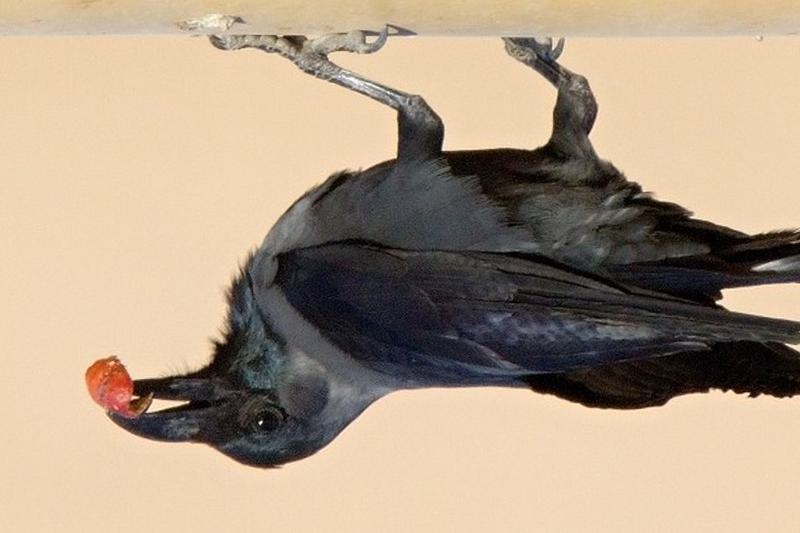crow: (79, 38, 755, 485)
